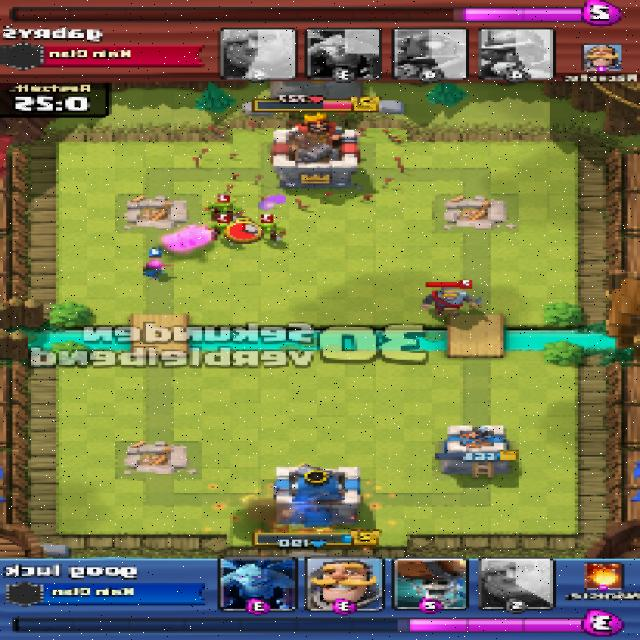Enemy-Goblin: (207, 198, 245, 218), (250, 221, 285, 241), (206, 220, 234, 241)
Enemy-Knight: (422, 285, 488, 313)
Player-Archer: (141, 257, 175, 275)
Player-Arrow: (194, 118, 404, 208)
